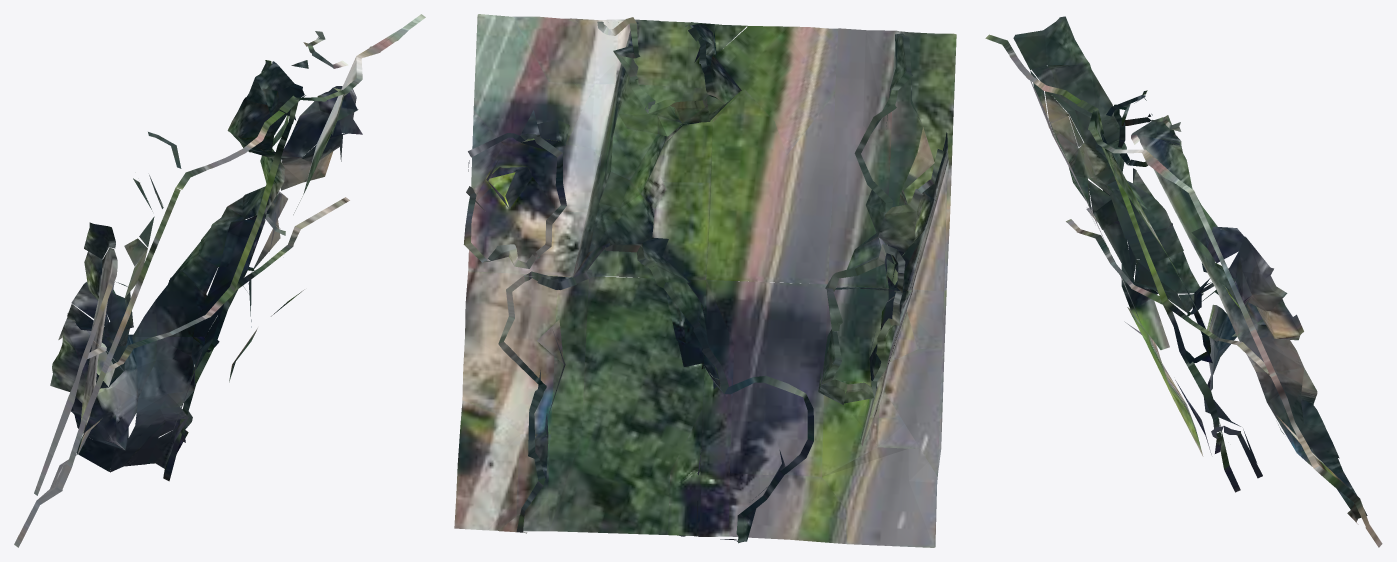
Rendered from AJVsH2wPPe6tlz6fFC6JrN1G-WD3xaJOoHUO1tgjSnLyM_Dl-1Sr7RBWaSLq39fVRJIOPSg0LdYl7S_IEgRkMKdSM1Zmb-YdhnosRH1V1beVPOa2bNfjm-JOj1nDlHW3HaFiDYATXVOux_eh4t7N1tVNySVv.glb.
3 renders of one model, left to right at view 1: azimuth 30°, elevation 25°; view 2: azimuth 150°, elevation 25°; view 3: azimuth 270°, elevation 25°, orthographic. The views are drawn at different scales.
Bounding box in the file's own units: 37.92 × 38.22 × 31.8.
2 materials, 2 textured.
